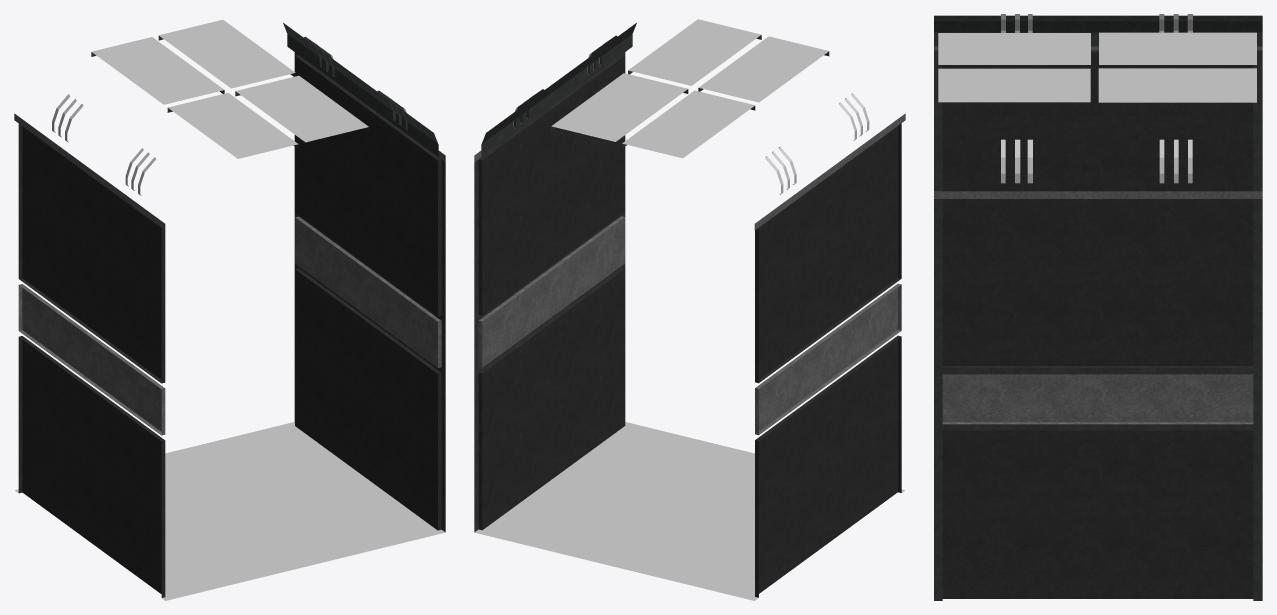
File: StraightHallway.fbx
The picture shows the model from 3 angles, left to right: view 1: azimuth 30°, elevation 25°; view 2: azimuth 150°, elevation 25°; view 3: azimuth 270°, elevation 25°; orthographic projection. The views are drawn at different scales.
Visible parts, largest first — view 1: Cube.002, Cube.021, Cube.009, Cube.027, Cube.015; view 2: Cube.002, Cube.021, Cube.009, Cube.027, Cube.015; view 3: Cube.002, Cube.009, Cube.015, Cube.027.
Boxes of the visible parts, x1,y1,x2,y2 form: Cube.002: (18, 55, 441, 597); Cube.021: (15, 422, 445, 600); Cube.009: (52, 19, 406, 194); Cube.027: (14, 113, 445, 435); Cube.015: (54, 23, 445, 532); Cube.002: (478, 55, 901, 597); Cube.021: (474, 422, 904, 600); Cube.009: (513, 19, 869, 193); Cube.027: (474, 113, 905, 435); Cube.015: (474, 23, 866, 532); Cube.002: (942, 50, 1253, 598); Cube.009: (938, 14, 1256, 183); Cube.015: (934, 15, 1262, 600); Cube.027: (934, 46, 1262, 424).
Bounding box in the file's own units: 692 × 996 × 647.
